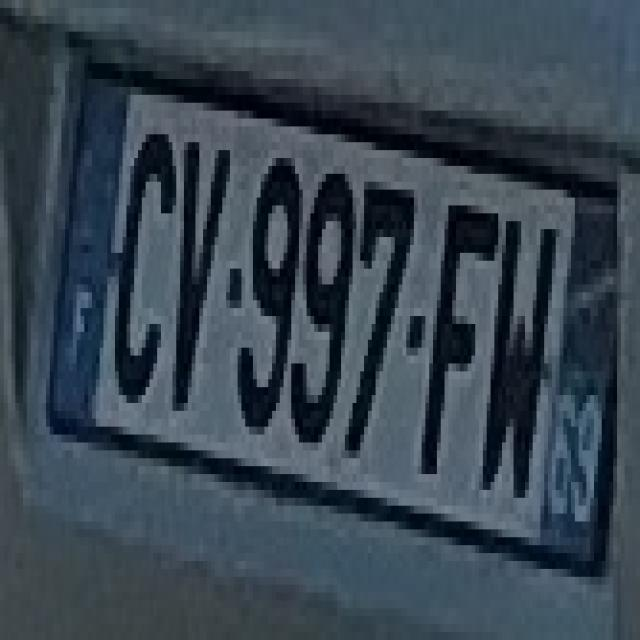EU: (45, 64, 625, 566)
France: (46, 78, 126, 422)
